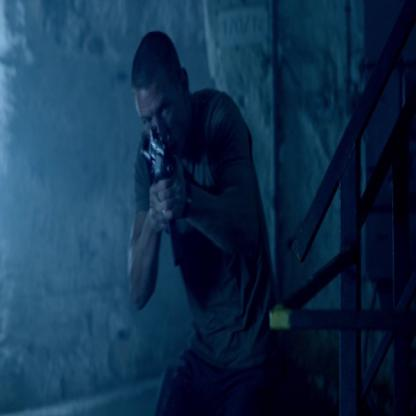Gun: (140, 121, 184, 270)
